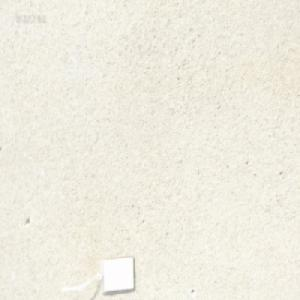LuggageTag: (60, 253, 136, 294)
